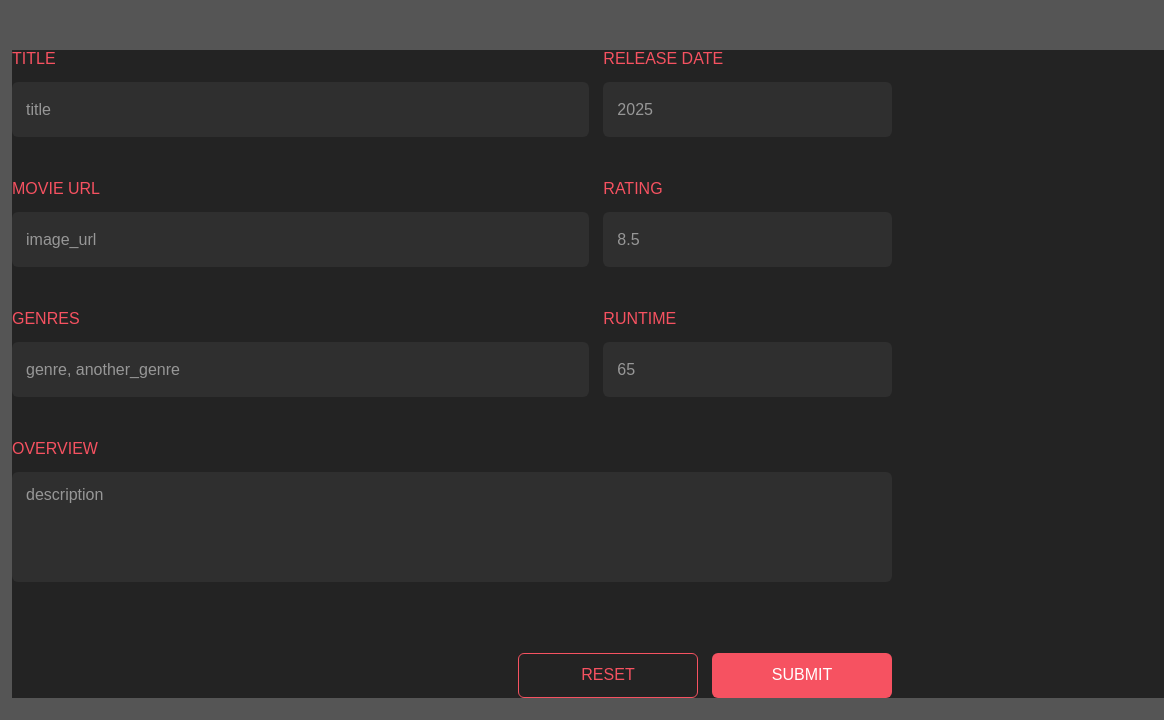
Test: MovieForm › resets the form with initial movie data
Type "new_title" into the field labelled "Title" at (301, 110), box top-left (12, 82), bottom-right (589, 137)
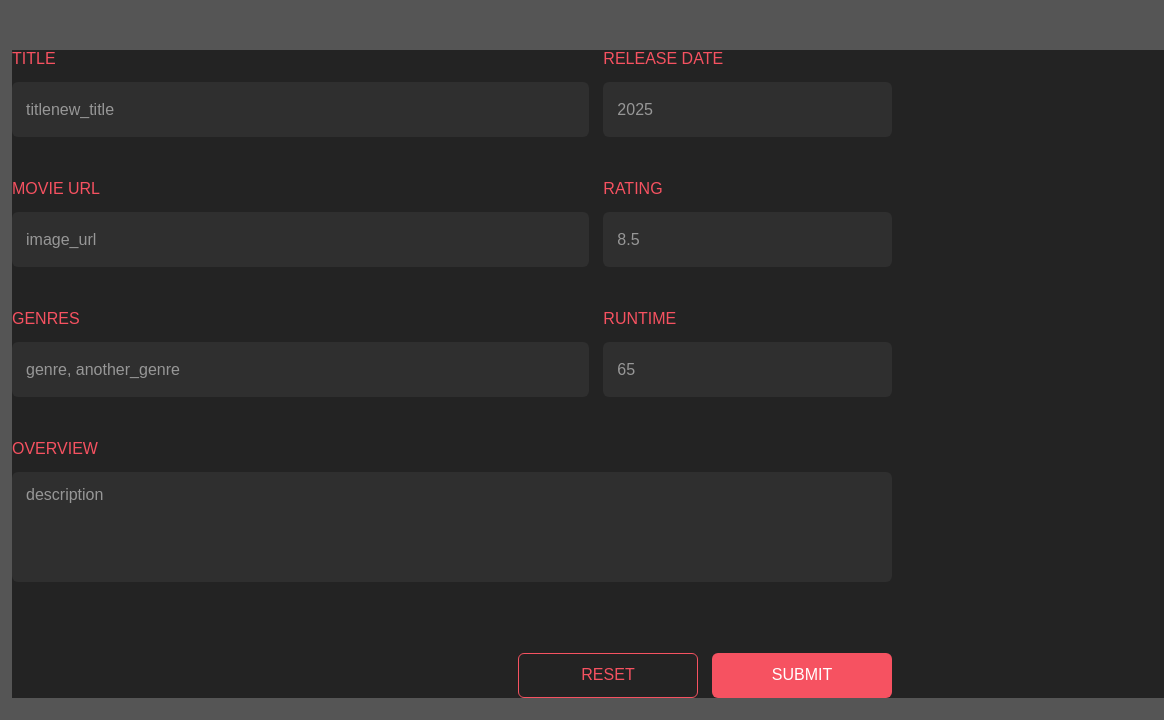
Click the button "Reset" at (608, 676), box top-left (518, 653), bottom-right (698, 698)
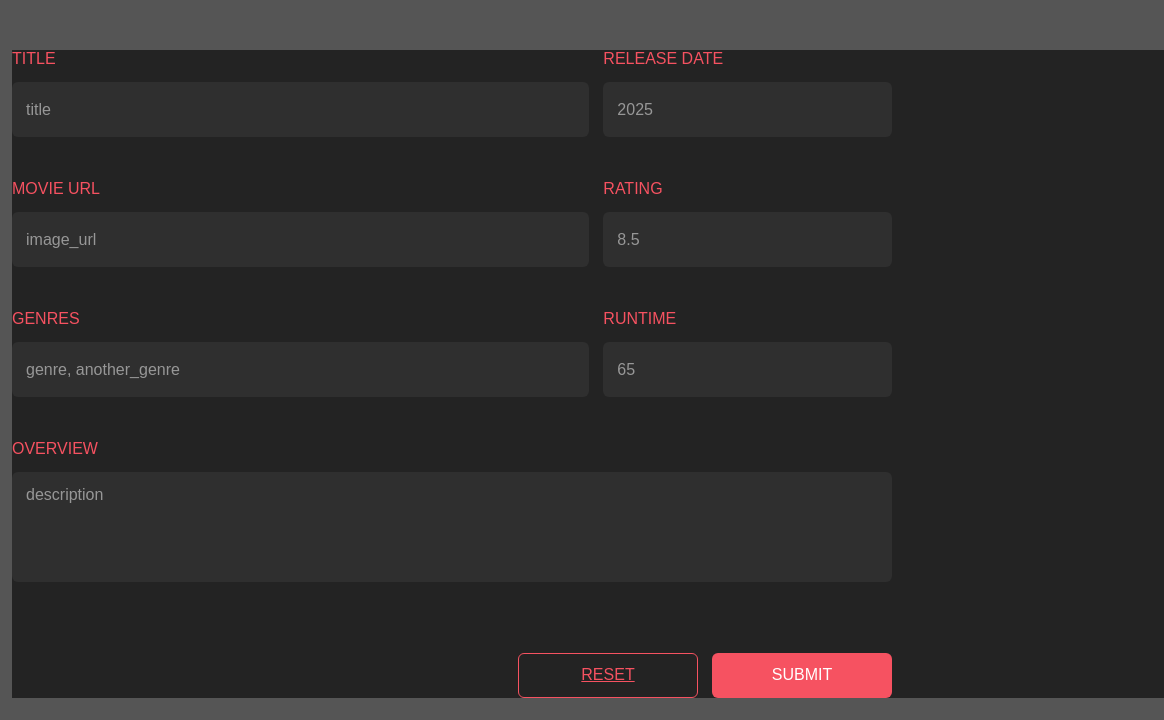
expect the field labelled "Title" holds "title": met, box top-left (12, 82), bottom-right (589, 137)
